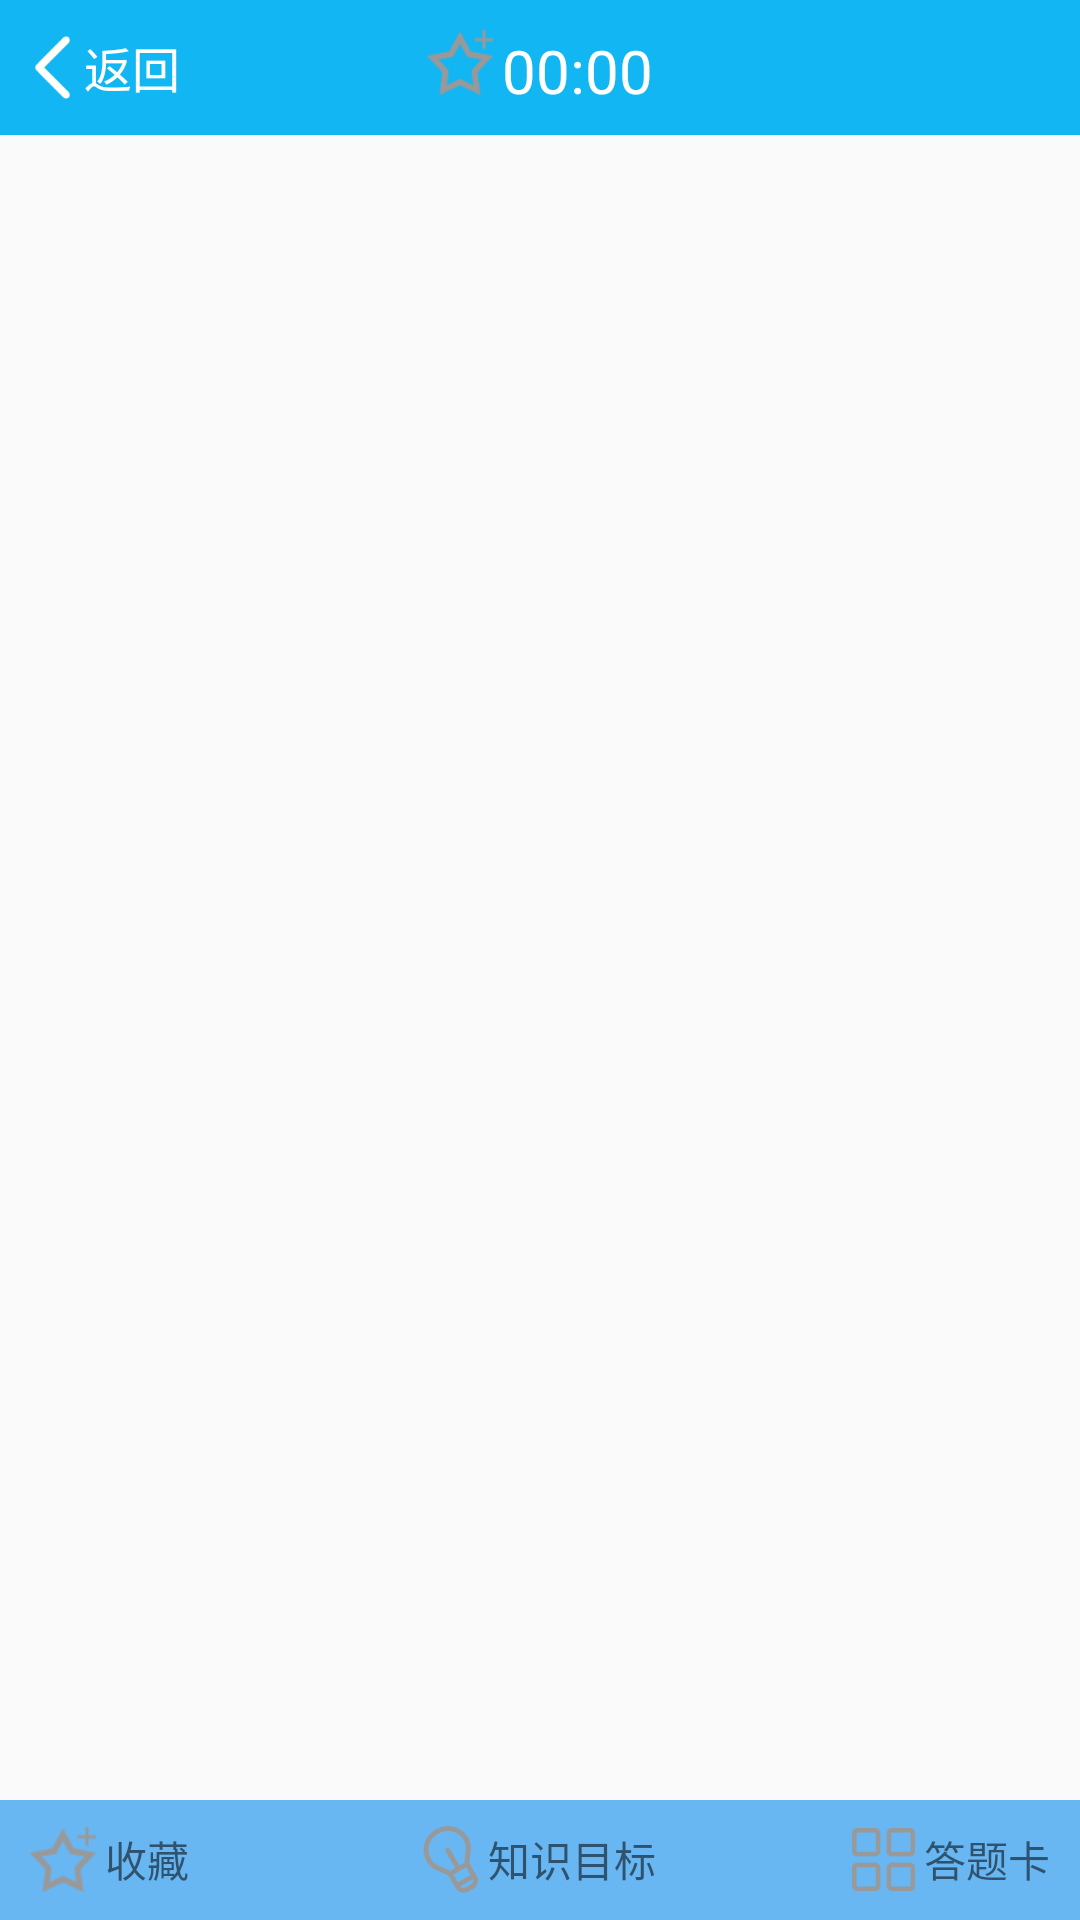

Where to tap for icons on this 1080px x 1920px app screen, as (x,y):
arr left: (52,67)
list: (883,1859)
tips: (450,1859)
